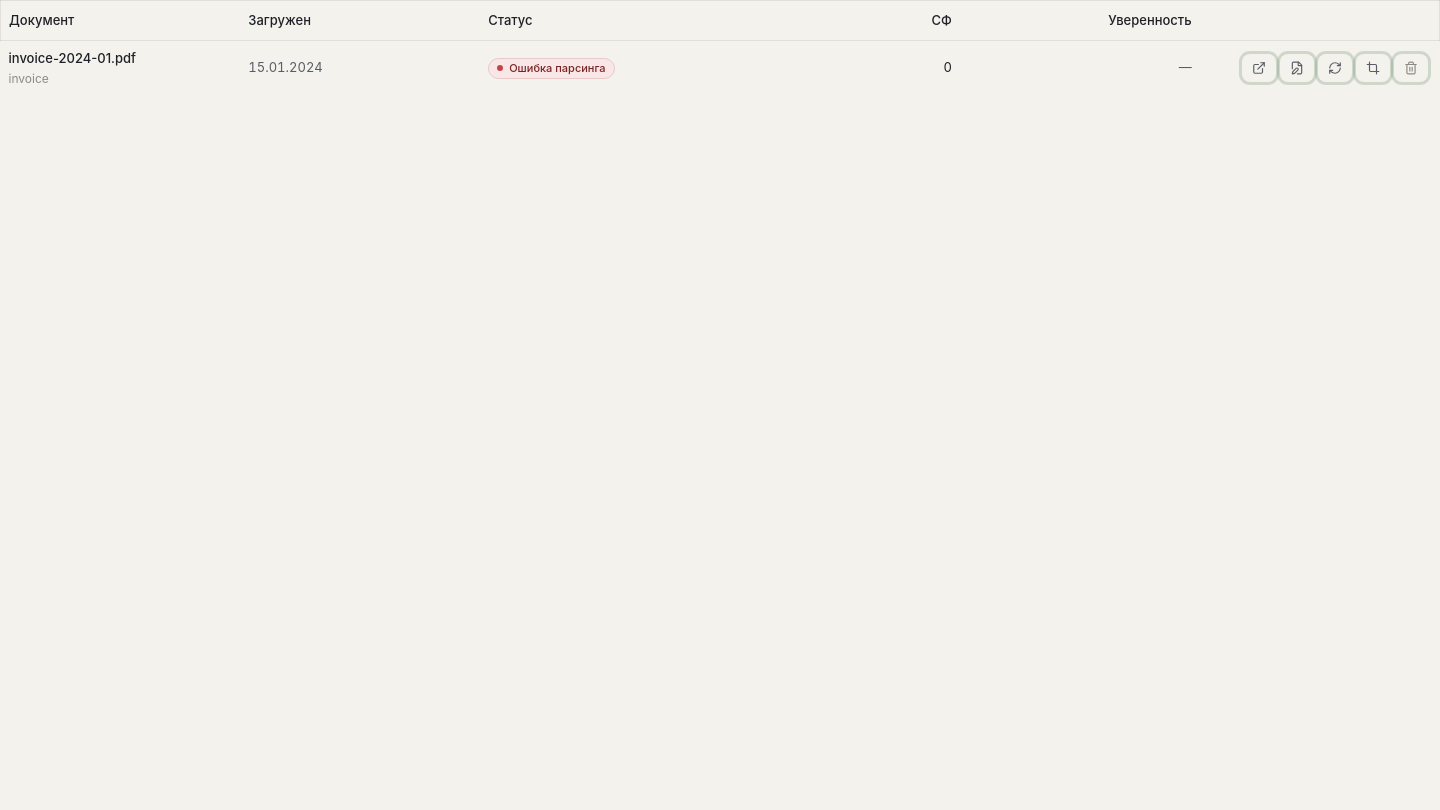
Test: ErrorDocsTab › opens delete confirmation dialog before deleting
Click the button named "удалить" at (1410, 68), box [1394, 54, 1428, 82]
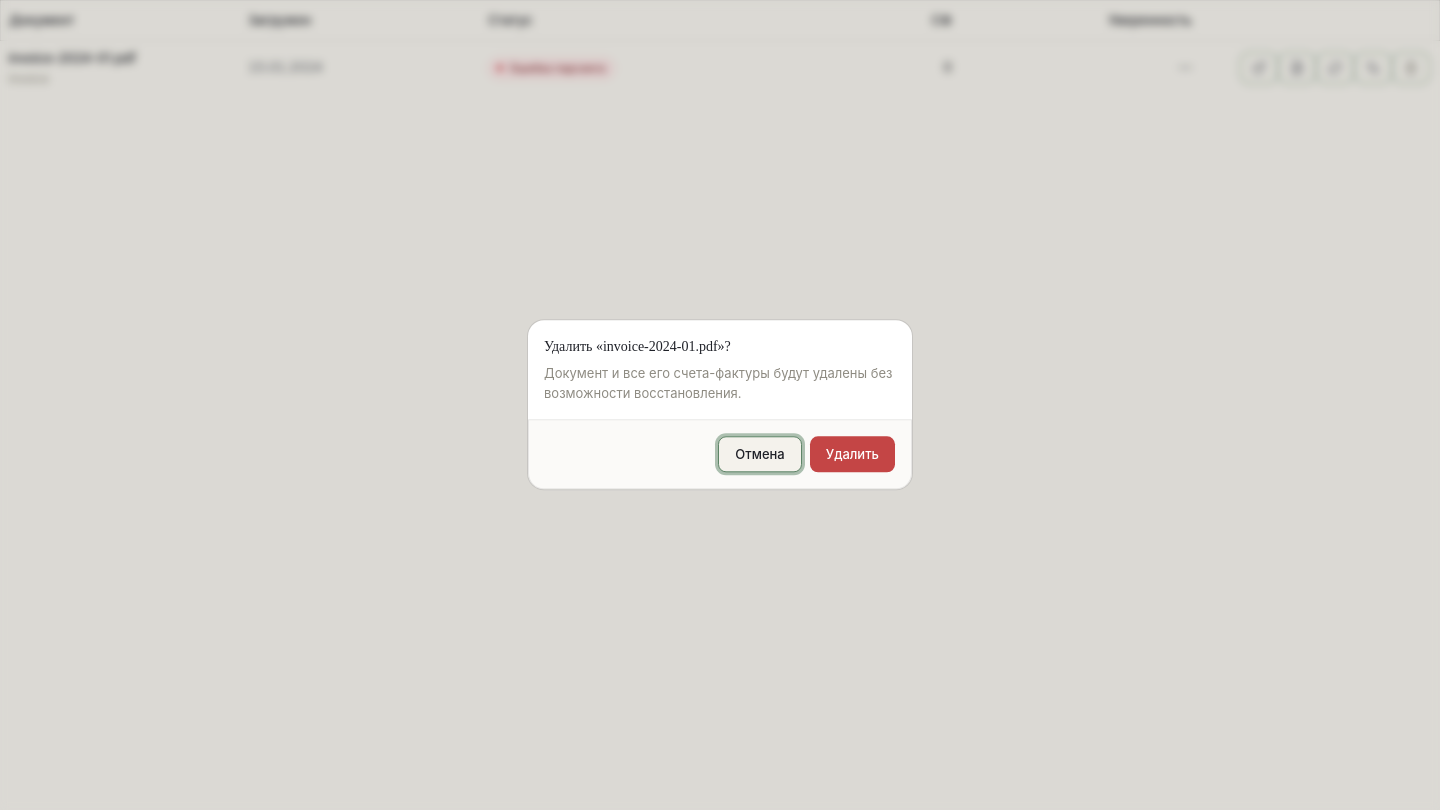
Expected: the dialog is shown, [528, 320, 912, 490]
